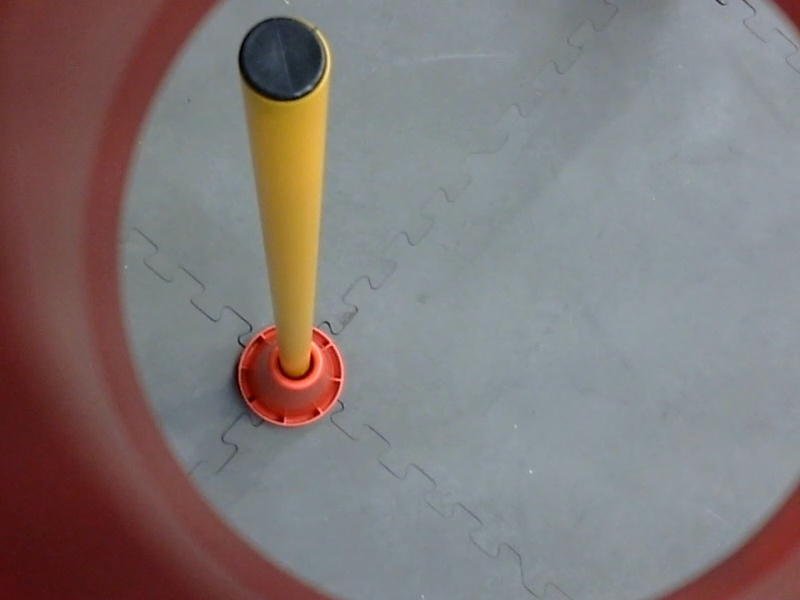tip: (227, 8, 342, 110)
